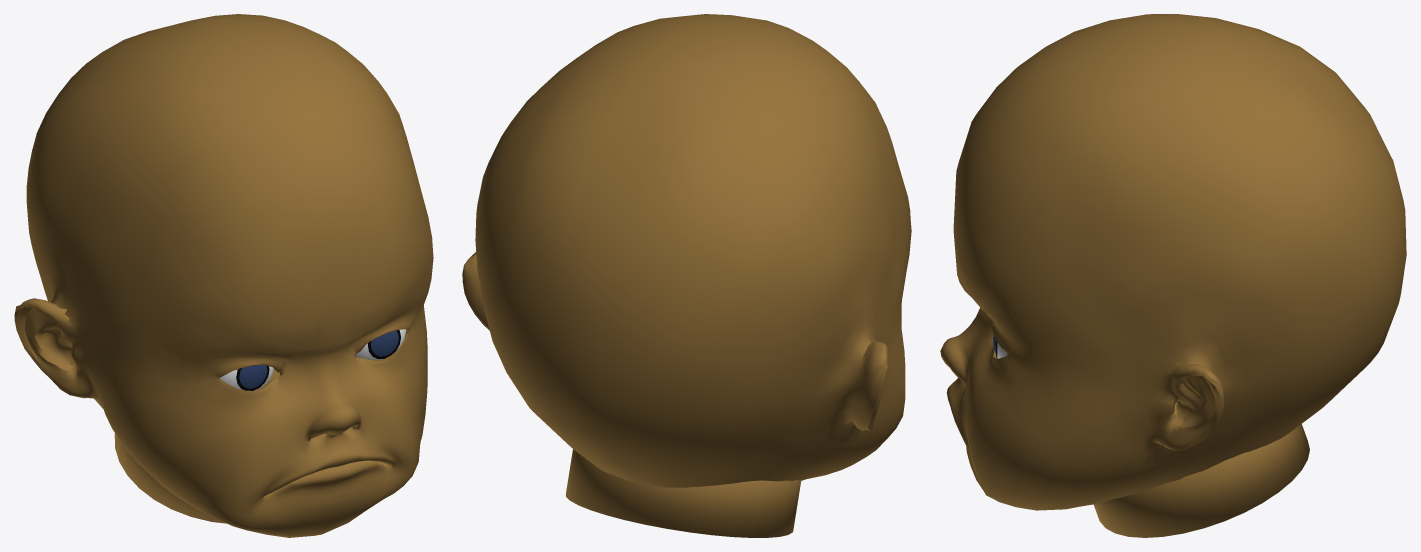
Rendered from baby.fbx.
3 views of the same model, side by side, from view 1: azimuth 30°, elevation 25°; view 2: azimuth 150°, elevation 25°; view 3: azimuth 270°, elevation 25° (orthographic). The views are drawn at different scales.
Parts seen in each view (by area): view 1: baby; view 2: baby; view 3: baby.
Part boxes in pixels (bbox=[...]): baby: bbox=[14, 14, 433, 537]; baby: bbox=[462, 14, 911, 537]; baby: bbox=[940, 14, 1406, 537].
Size of the model in its own units: 2174 by 2417 by 2145.
